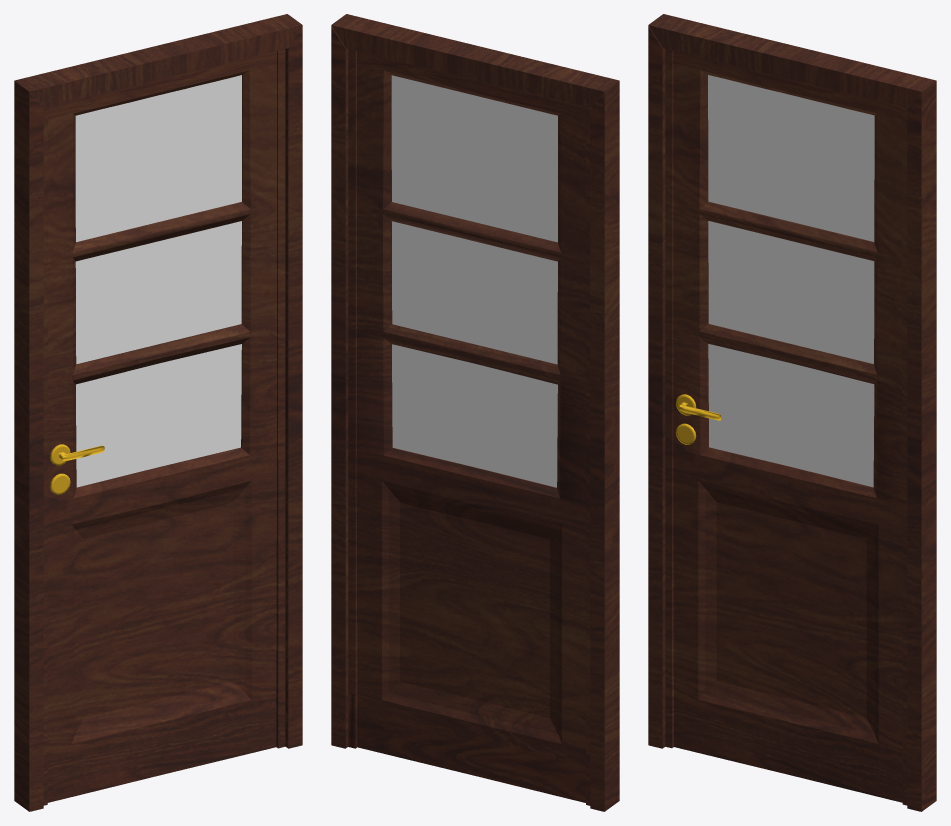
The model's file is PUERTA16_CORTINA.glb.
The picture shows the model from 3 angles, left to right: view 1: azimuth 30°, elevation 25°; view 2: azimuth 150°, elevation 25°; view 3: azimuth 330°, elevation 25°; orthographic projection.
Parts seen in each view (by area): view 1: Puerta16_CORTINA, CRISTAL_GRANDE, Puerta16_Marco, Puerta16_Cerradura; view 2: Puerta16_CORTINA, CRISTAL_GRANDE, Puerta16_Marco; view 3: Puerta16_CORTINA, CRISTAL_GRANDE, Puerta16_Marco, Puerta16_Cerradura.
Boxes of the visible parts, x1=… form: Puerta16_CORTINA: x1=43, y1=49, x2=285, y2=805; CRISTAL_GRANDE: x1=75, y1=75, x2=241, y2=487; Puerta16_Marco: x1=14, y1=14, x2=302, y2=811; Puerta16_Cerradura: x1=50, y1=444, x2=104, y2=494; Puerta16_CORTINA: x1=348, y1=49, x2=590, y2=805; CRISTAL_GRANDE: x1=391, y1=75, x2=557, y2=487; Puerta16_Marco: x1=331, y1=14, x2=619, y2=811; Puerta16_CORTINA: x1=665, y1=49, x2=907, y2=805; CRISTAL_GRANDE: x1=708, y1=75, x2=874, y2=487; Puerta16_Marco: x1=648, y1=14, x2=936, y2=811; Puerta16_Cerradura: x1=675, y1=394, x2=721, y2=444.
Bounding box in the file's own units: 769 × 1936 × 85.
Materials: 5 (3 with a texture image).
